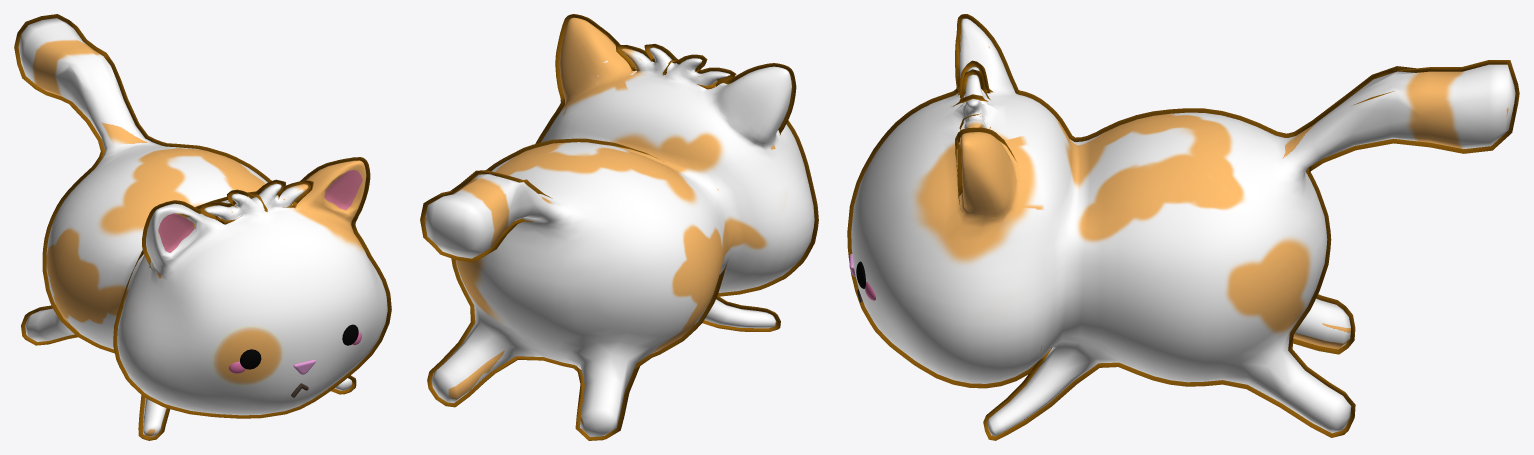
The model's file is machi.gltf.
3 renders of one model, left to right at view 1: azimuth 30°, elevation 25°; view 2: azimuth 150°, elevation 25°; view 3: azimuth 270°, elevation 25°, orthographic. The views are drawn at different scales.
Parts seen in each view (by area): view 1: Roundcube, Sphere.002; view 2: Roundcube; view 3: Roundcube.
Part boxes in pixels (x1,y1,x2,y2): Roundcube: [14, 14, 391, 440]; Sphere.002: [240, 324, 358, 369]; Roundcube: [420, 14, 818, 440]; Roundcube: [847, 14, 1519, 440].
Bounding box in the file's own units: 2.47 × 2.36 × 4.43.
7 materials, 1 textured.
